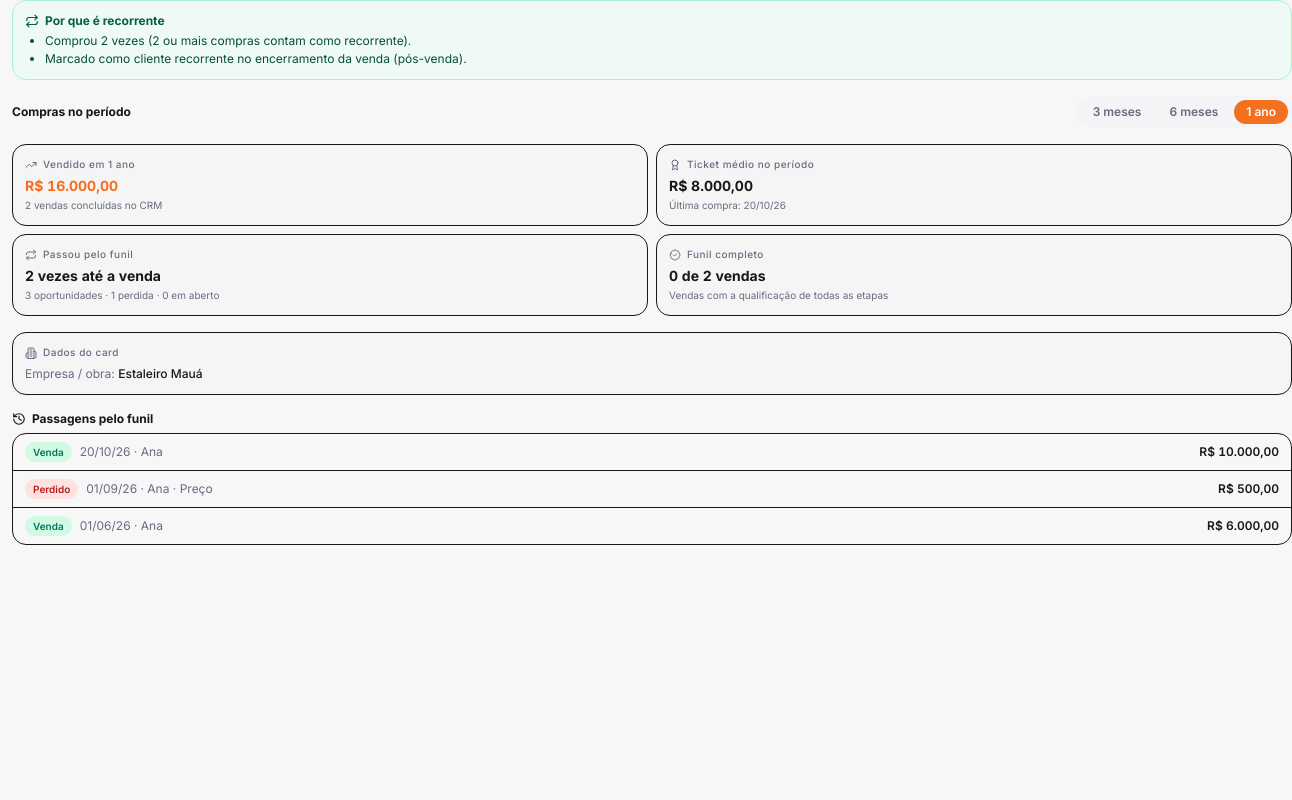
Test case: ClientInsightsPanel › shows why the client is recurring, funnel passes and sales by period
The image size is (1292, 800).
Expected: the list item "Marcado como cliente recorrente no encerramento da venda (pós-venda)." is shown, [45,51,467,66]
Expected: the text "2 vezes até a venda" is shown, [25,267,161,284]
Click the button "3 meses".
click(1117, 112)  # box [1081,100,1153,124]
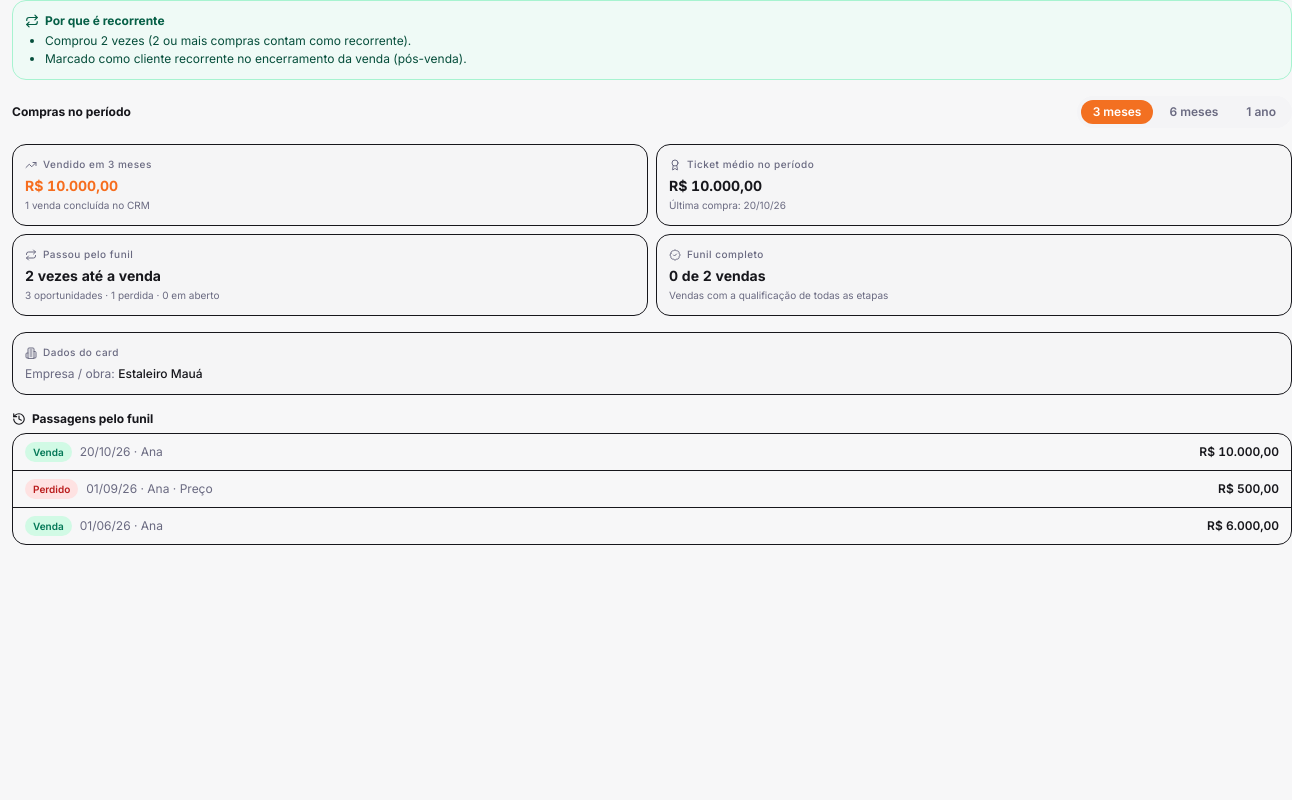
Expected: the text "Empresa / obra:" is shown, [25,366,118,381]
Result: the text "R$ 10.000,00" below "Vendido em 3 meses" is shown at [25,177,118,194]
